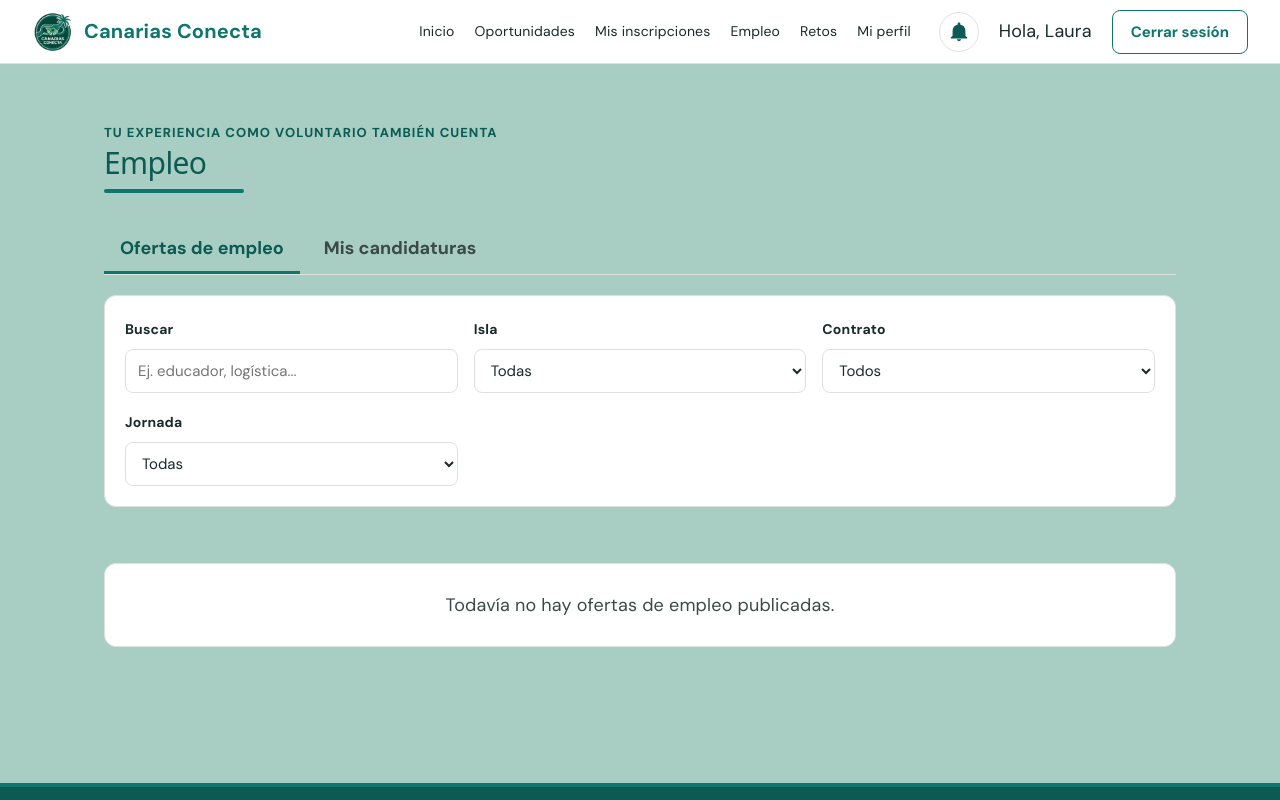
Empleo (voluntario) › sin candidaturas lo indica
The width and height of the screenshot is (1280, 800).
Click the tab "Mis candidaturas" at (400, 249), box [308,225,492,274]
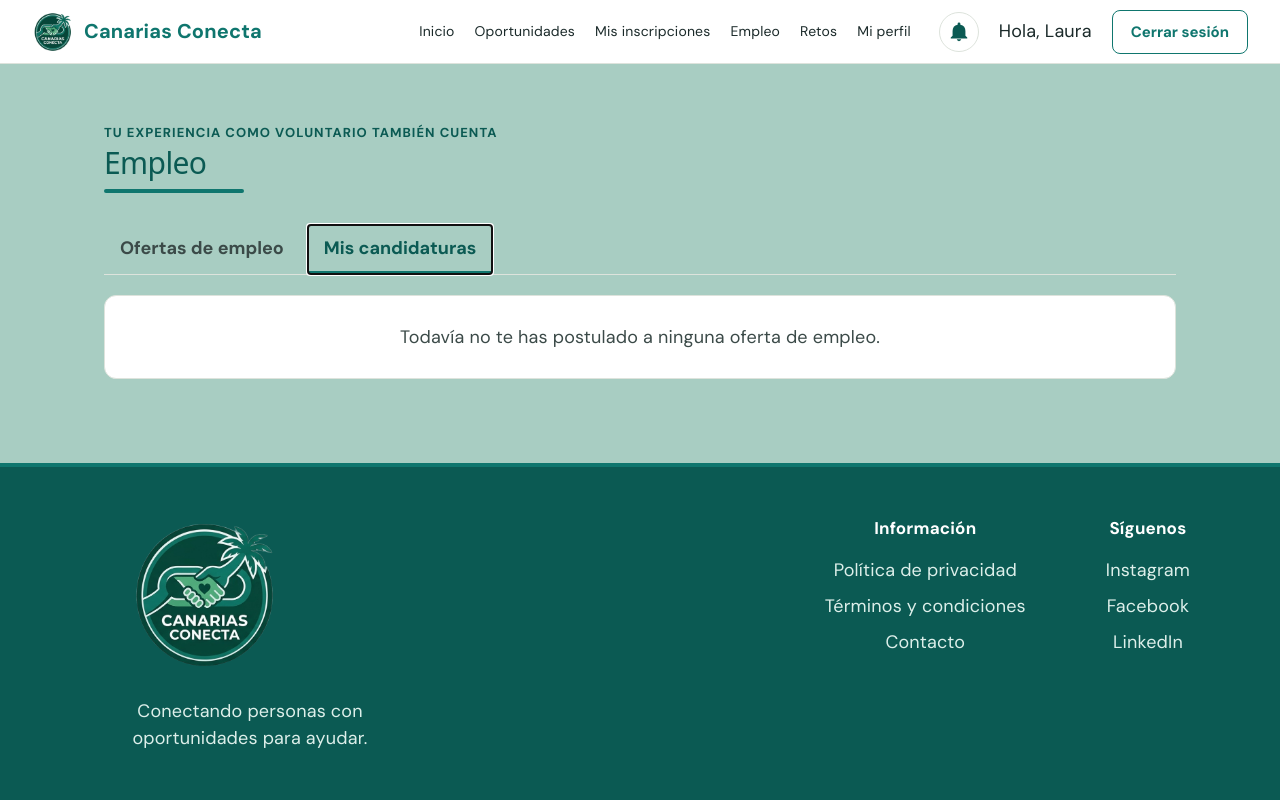
Check: the text "Todavía no te has postulado a ninguna oferta de empleo." is shown, box [104,295,1176,379]
